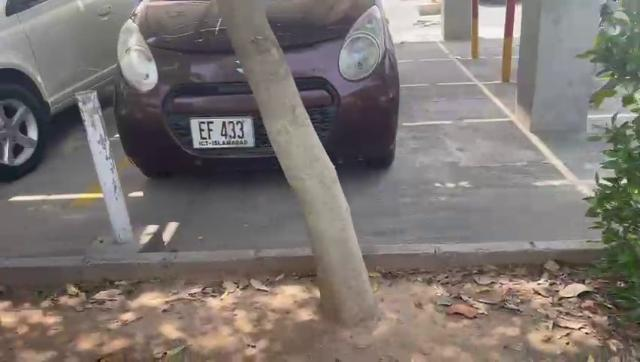plate: (190, 117, 256, 149)
